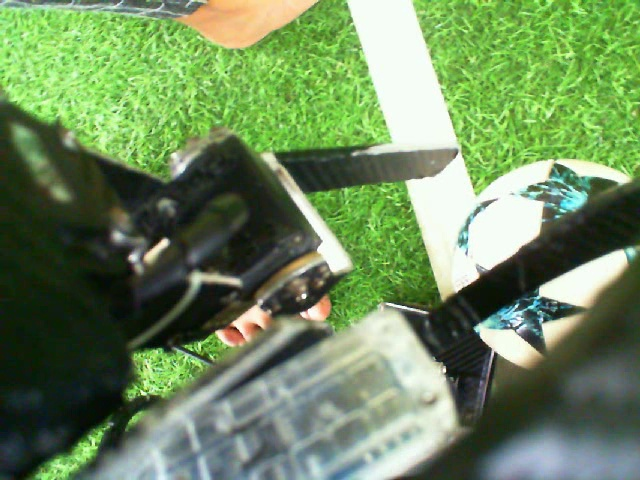ball: (448, 154, 635, 296)
